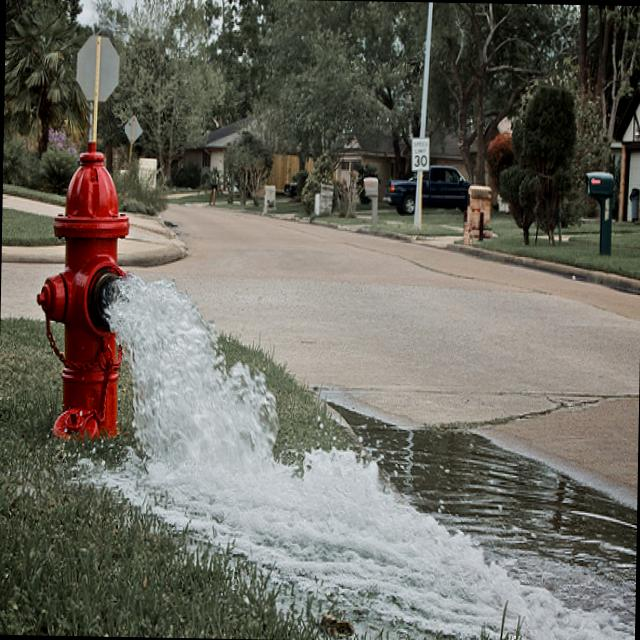Vehicle: (384, 166, 470, 218), (284, 180, 298, 200)
